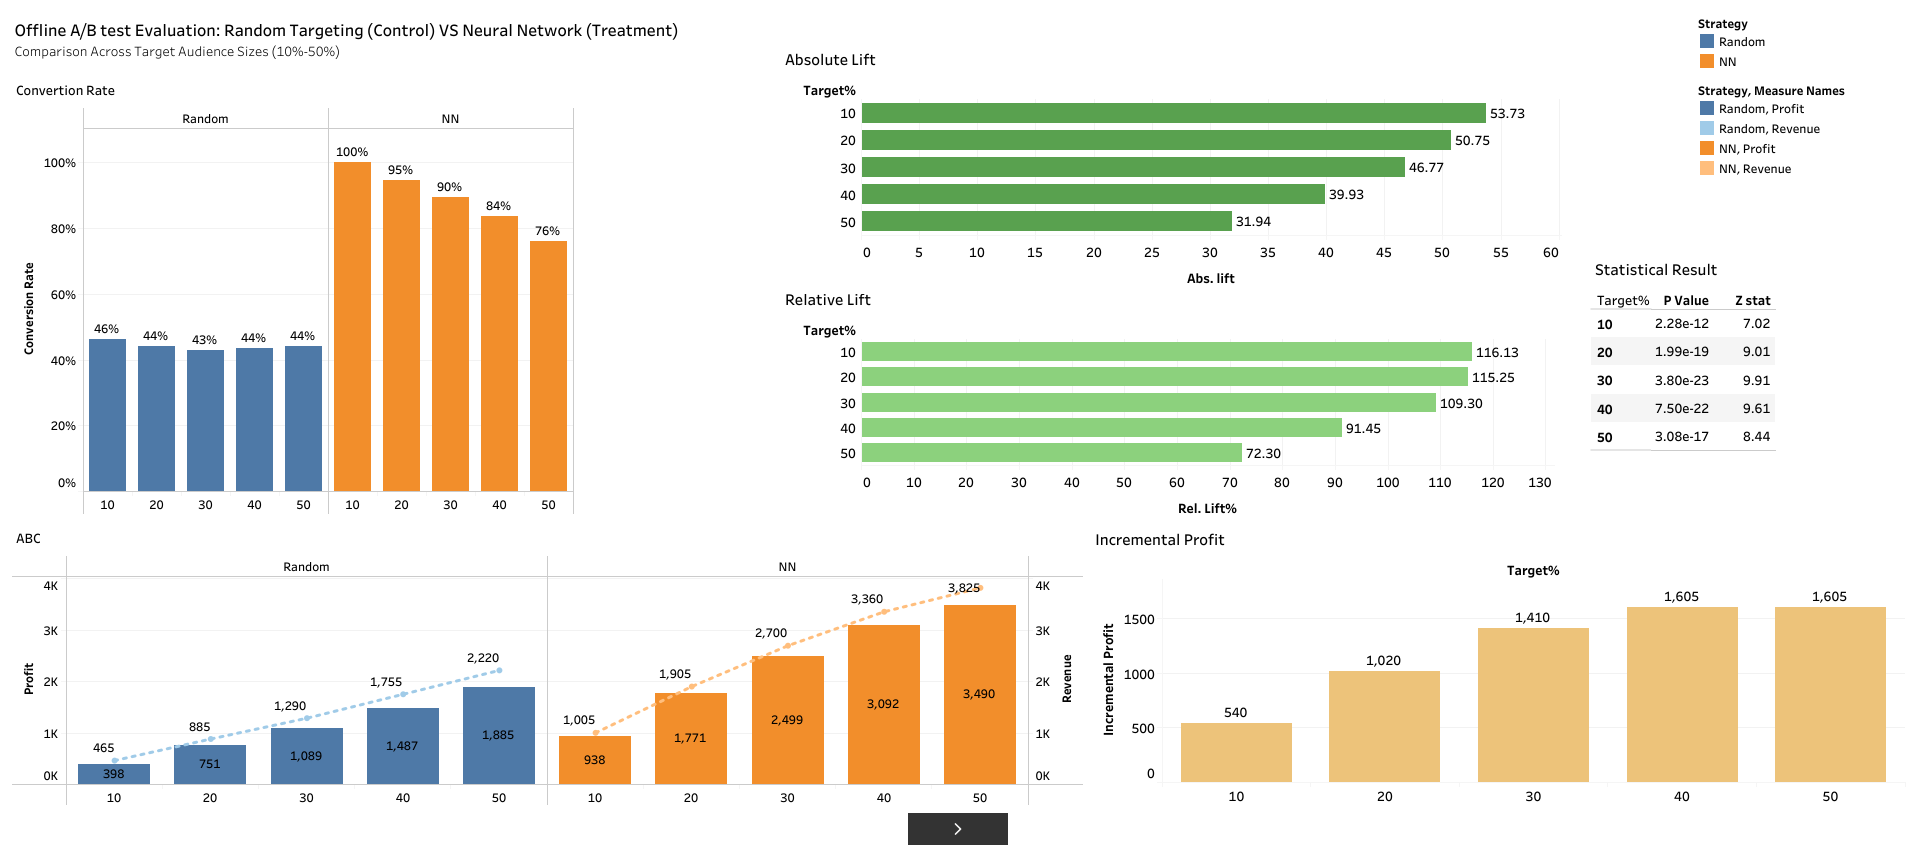

This screenshot's page, from the dashboard's own definition file:
{"tool":"tableau","page":{"name":"AB Test Result","canvas":[1000,1000],"units":"permille","ordinal":0},"visuals":[{"type":"text","box":[6.5,11.5,811.2,72.1]},{"type":"legend","title":"Convertion rate","param":"[federated.0tp3prg1twolwe0ztedd30p3cez0].[none:Strategy:nk]","box":[817.7,11.5,175.8,94.7]},{"type":"worksheet","title":"Abs Lift","mark":"Automatic","rows":["Target%"],"cols":["Abs. lift"],"box":[423.1,48.8,391.4,294.1]},{"type":"worksheet","title":"Convertion rate","mark":"Automatic","rows":["Conversion Rate"],"cols":["Strategy","Target %"],"box":[6.5,83.6,405.6,520.5]},{"type":"legend","title":"Revenue&Profit","param":"[federated.0tp3prg1twolwe0ztedd30p3cez0].[none:Strategy:nk]\n[federated.0tp3prg1t","box":[817.7,106.2,175.8,152.1]},{"type":"worksheet","title":"Stat","mark":"Automatic","rows":["Target%"],"box":[829.9,294.1,165.2,232.4]},{"type":"worksheet","title":"Rel Lift","mark":"Automatic","rows":["Target%"],"cols":["Rel. Lift%"],"box":[432.1,328.6,378.4,282.6]},{"type":"worksheet","title":"Revenue&Profit","mark":"Automatic","rows":["Profit","Revenue"],"cols":["Strategy","Target %"],"box":[6.5,604.2,560.4,338.4]},{"type":"worksheet","title":"Inc Profit","mark":"Automatic","rows":["Incremental Profit"],"cols":["Target%"],"box":[566.9,604.2,426.6,338.4]},{"type":"dashboard-object","box":[6.5,942.6,987,45.9]}]}

Visuals, with their boxes on the dashboard's canvas, which has no fixed pixel size, in thousandths of its width and height (x1, y1, x2, y2). These are canvas units, not pixel positions in the 1916x856 screenshot, which may show the page scaled, cropped or inside an application window:
text: select_region(6, 12, 818, 84)
"Convertion rate" legend: select_region(818, 12, 994, 106)
"Abs Lift" worksheet: select_region(423, 49, 814, 343)
"Convertion rate" worksheet: select_region(6, 84, 412, 604)
"Revenue&Profit" legend: select_region(818, 106, 994, 258)
"Stat" worksheet: select_region(830, 294, 995, 526)
"Rel Lift" worksheet: select_region(432, 329, 810, 611)
"Revenue&Profit" worksheet: select_region(6, 604, 567, 943)
"Inc Profit" worksheet: select_region(567, 604, 994, 943)
dashboard-object: select_region(6, 943, 994, 988)
